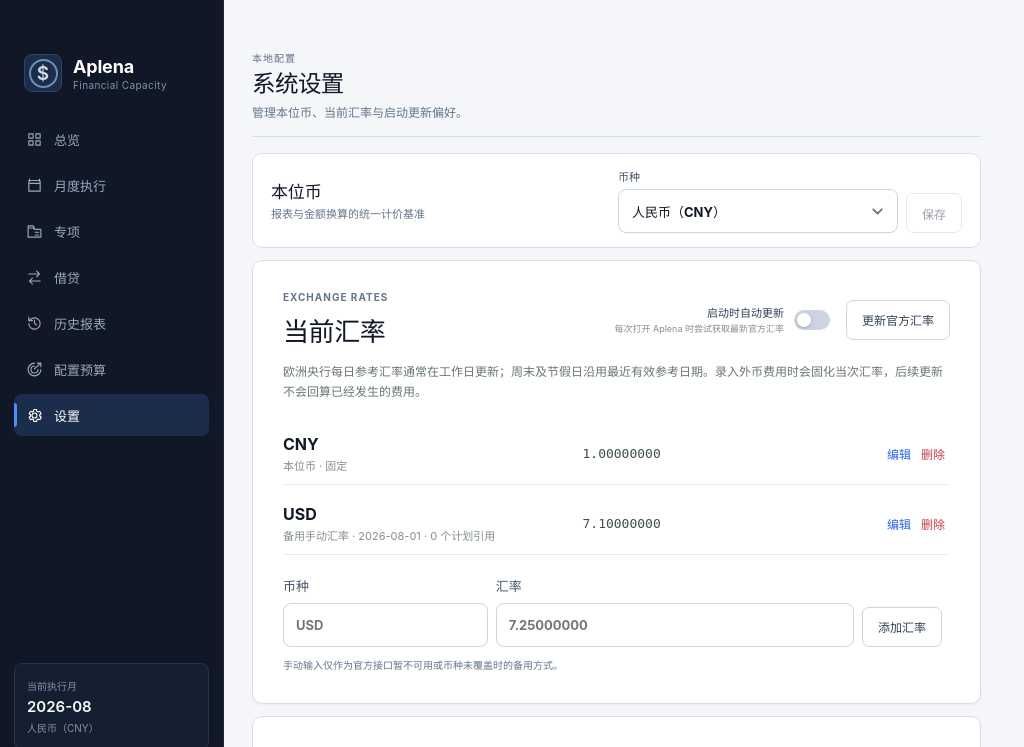
Test: planning workflows › updates saved and rule currencies from the latest ECB observation date
The image size is (1024, 747).
What coordinates should you click on to do the following:
click the button "更新官方汇率"
I would click on:
 (898, 320)
Its box is [846,300,950,340].
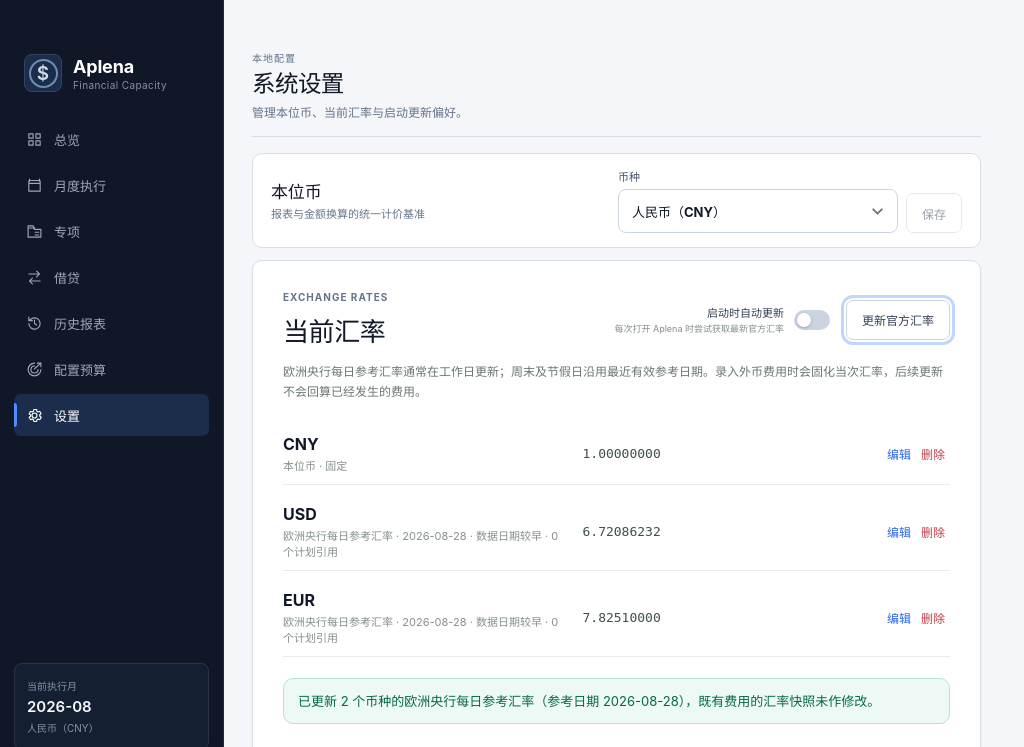
Result: the text "已更新 2 个币种的欧洲央行每日参考汇率（参考日期 2026-08-28），既有费用的汇率快照未作修改。" is shown at [283,678,950,724]
